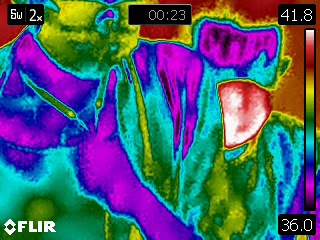human: (1, 1, 239, 239), (169, 2, 319, 240)
